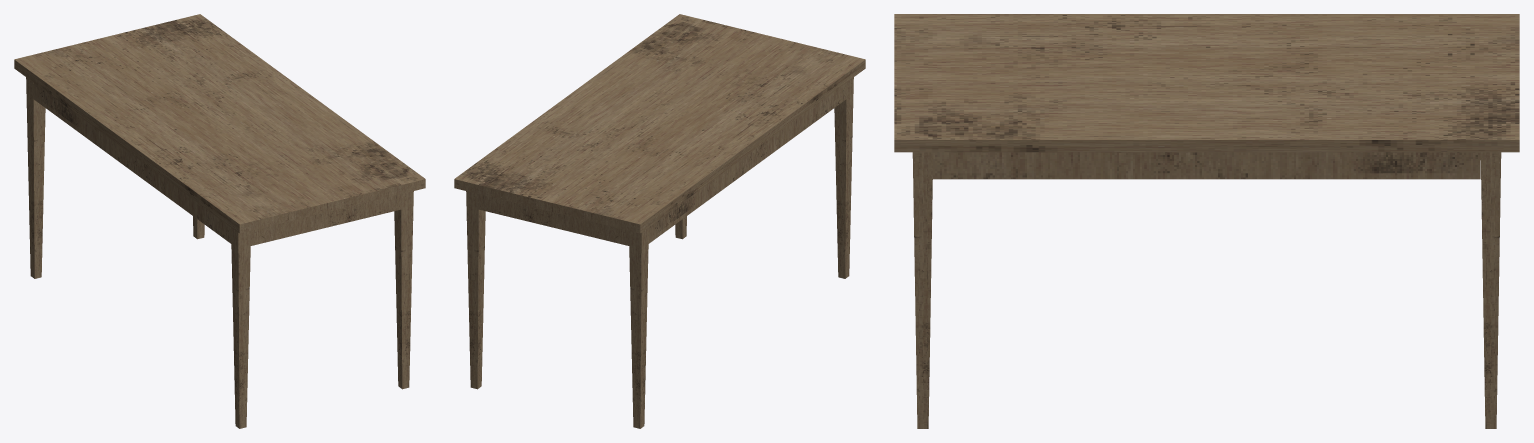
Rendered from KitchenTable.fbx.
3 views of the same model, side by side, from view 1: azimuth 30°, elevation 25°; view 2: azimuth 150°, elevation 25°; view 3: azimuth 270°, elevation 25° (orthographic). The views are drawn at different scales.
Visible parts, largest first — view 1: KitchenTable_low, KitchenTable_low.001, KitchenTable_low.002, KitchenTable_low.003; view 2: KitchenTable_low, KitchenTable_low.001, KitchenTable_low.002, KitchenTable_low.003; view 3: KitchenTable_low, KitchenTable_low.002, KitchenTable_low.001.
Boxes of the visible parts, box(x1,y1,x2,y2) form: KitchenTable_low: box(14, 14, 425, 233); KitchenTable_low.001: box(26, 77, 413, 428); KitchenTable_low.002: box(33, 83, 231, 243); KitchenTable_low.003: box(250, 194, 401, 245); KitchenTable_low: box(454, 14, 865, 233); KitchenTable_low.001: box(466, 77, 853, 428); KitchenTable_low.002: box(648, 83, 846, 243); KitchenTable_low.003: box(478, 194, 629, 245); KitchenTable_low: box(894, 14, 1519, 152); KitchenTable_low.002: box(933, 152, 1480, 179); KitchenTable_low.001: box(912, 152, 1501, 428).
Bounding box in the file's own units: 71.45 × 78 × 150.
1 material, 1 textured.
